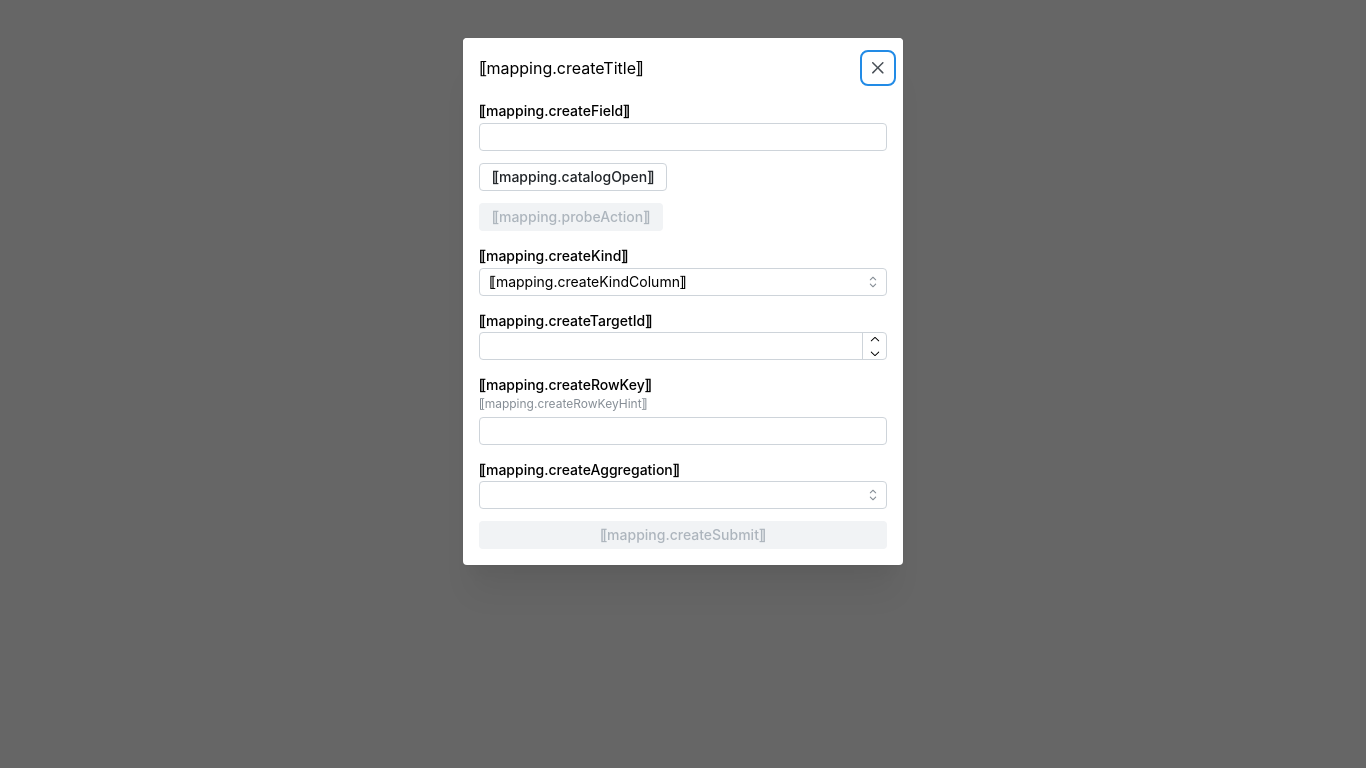
Test: Каталог PI AF у формі мапінгу (ФВ-13.13) › розгортання елемента читає дочірні САМЕ його шляхом
Click the button "⟦mapping.catalogOpen⟧" at (573, 177), box [479, 163, 667, 191]
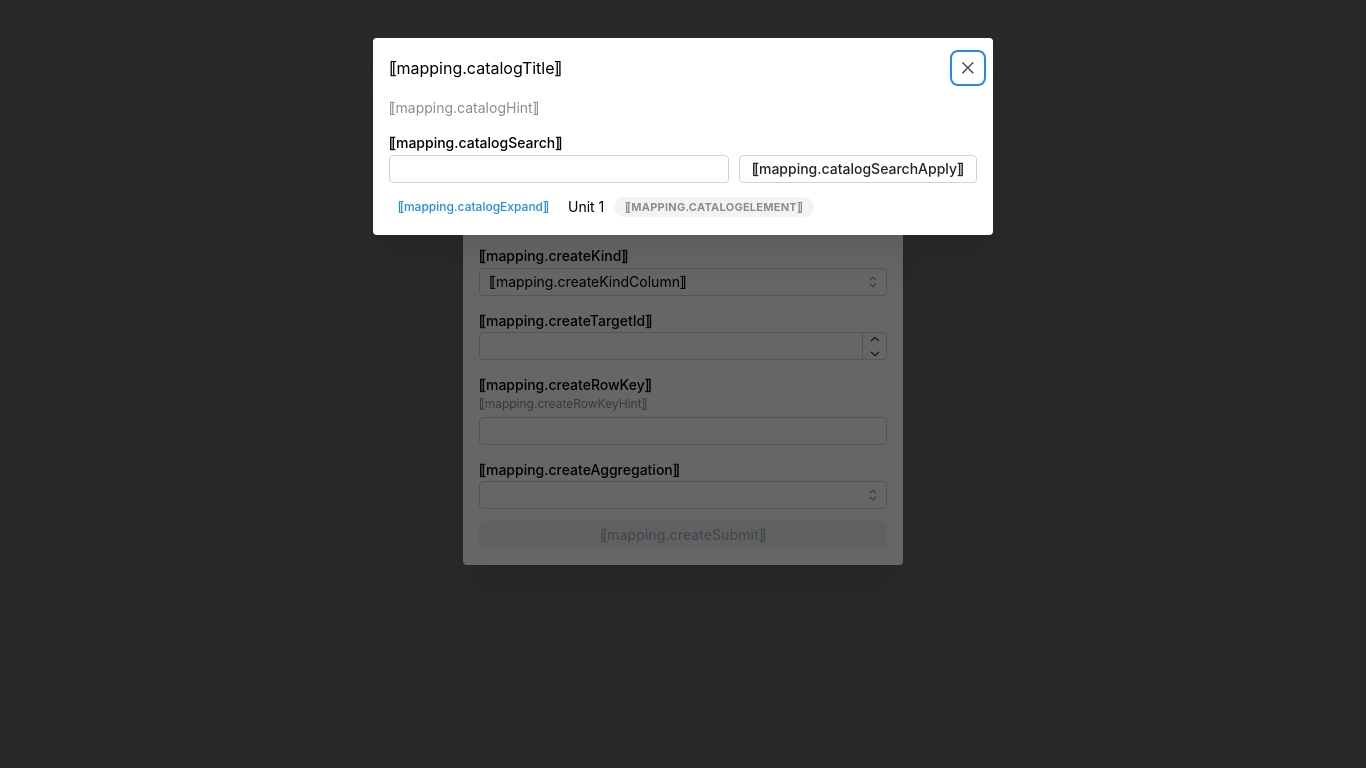
expect the text "Unit 1" is shown: met, box [568, 197, 604, 218]
Click the button "⟦mapping.catalogExpand⟧" at (474, 208), box [389, 196, 558, 220]
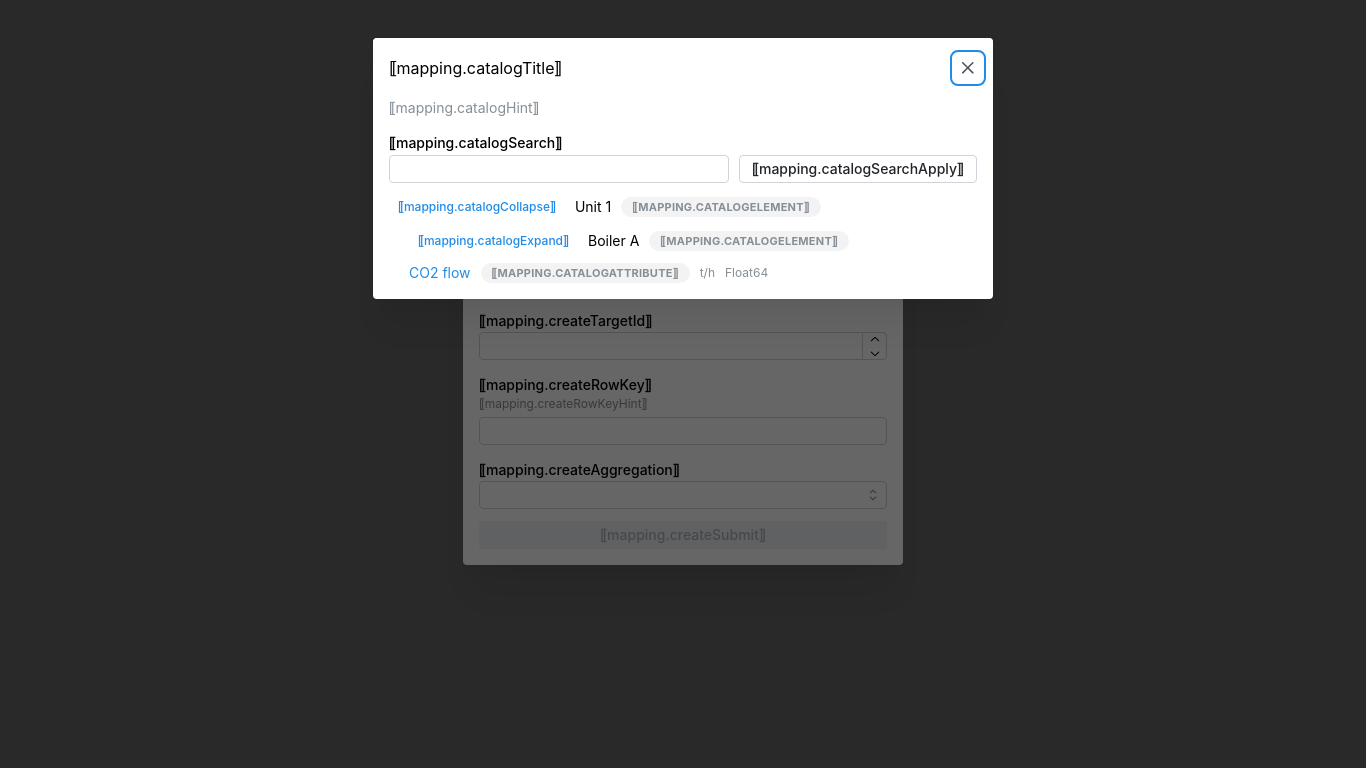
expect the text "Boiler A" is shown: met, box [588, 231, 639, 252]
expect the button "CO2 flow" is shown: met, box [409, 264, 471, 284]
